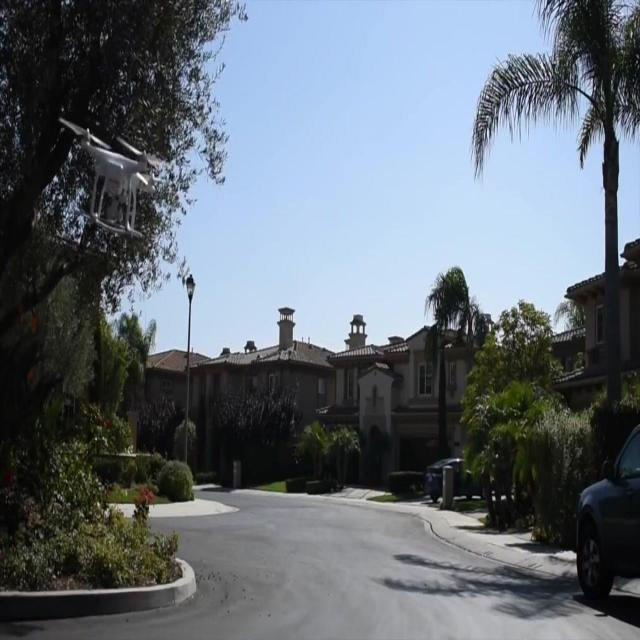UAV: (59, 118, 171, 238)
